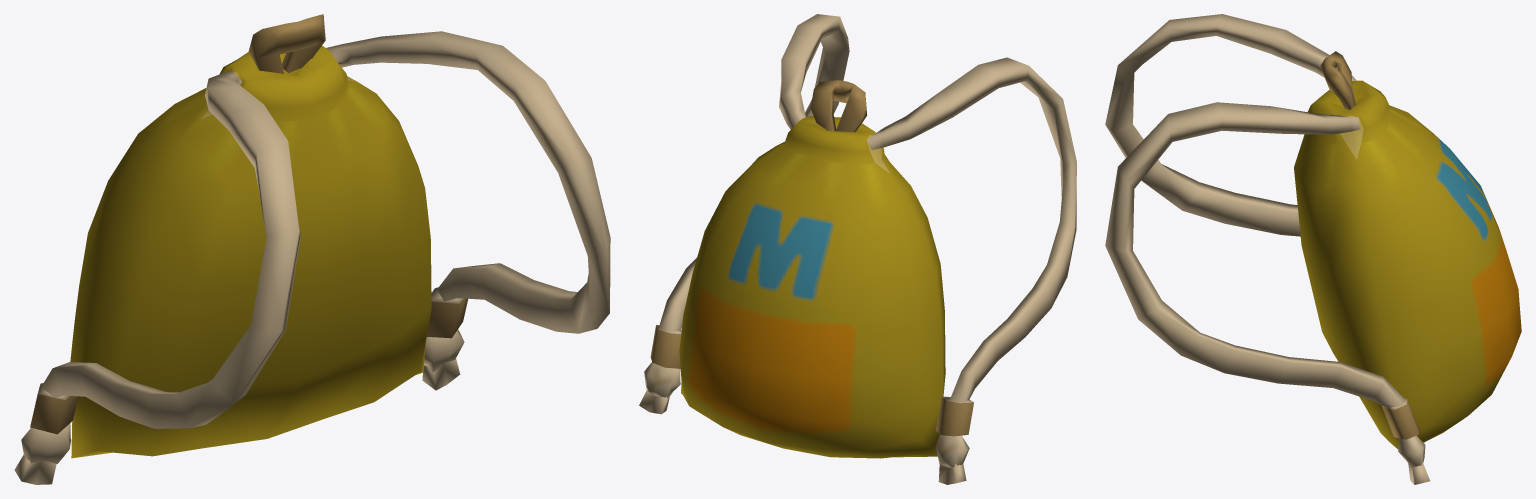
File: BagBackpackQuilt0.glb
The picture shows the model from 3 angles, left to right: view 1: azimuth 30°, elevation 25°; view 2: azimuth 150°, elevation 25°; view 3: azimuth 270°, elevation 25°; orthographic projection. The views are drawn at different scales.
Visible parts, largest first — view 1: Belt__mBag; view 2: Belt__mBag; view 3: Belt__mBag.
Part boxes in pixels (x1,y1,x2,y2): Belt__mBag: (14, 14, 610, 484); Belt__mBag: (639, 14, 1076, 484); Belt__mBag: (1105, 14, 1521, 484).
Bounding box in the file's own units: 3.48 × 3.45 × 3.74.
Materials: 1 (1 with a texture image).
